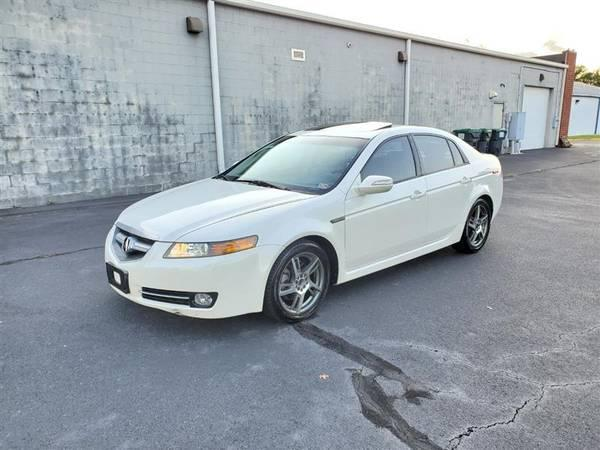Front_Bumper: (103, 227, 285, 318)
Front_Fender: (176, 189, 347, 281)
Front_Left_Door: (344, 176, 427, 281)
Front_Left_Window: (346, 134, 423, 198)
Front_Windshield: (215, 134, 370, 196)
Grille: (110, 222, 156, 261)
Hood: (116, 178, 309, 242)
Left_Headlight: (163, 235, 259, 260)
Rear_Fender: (468, 156, 502, 219)
Rear_Left_Door: (423, 164, 475, 252)
Rear_Left_Window: (412, 133, 472, 175)
Roof: (285, 123, 497, 197)
Wheel: (268, 240, 335, 320), (465, 201, 491, 249)
